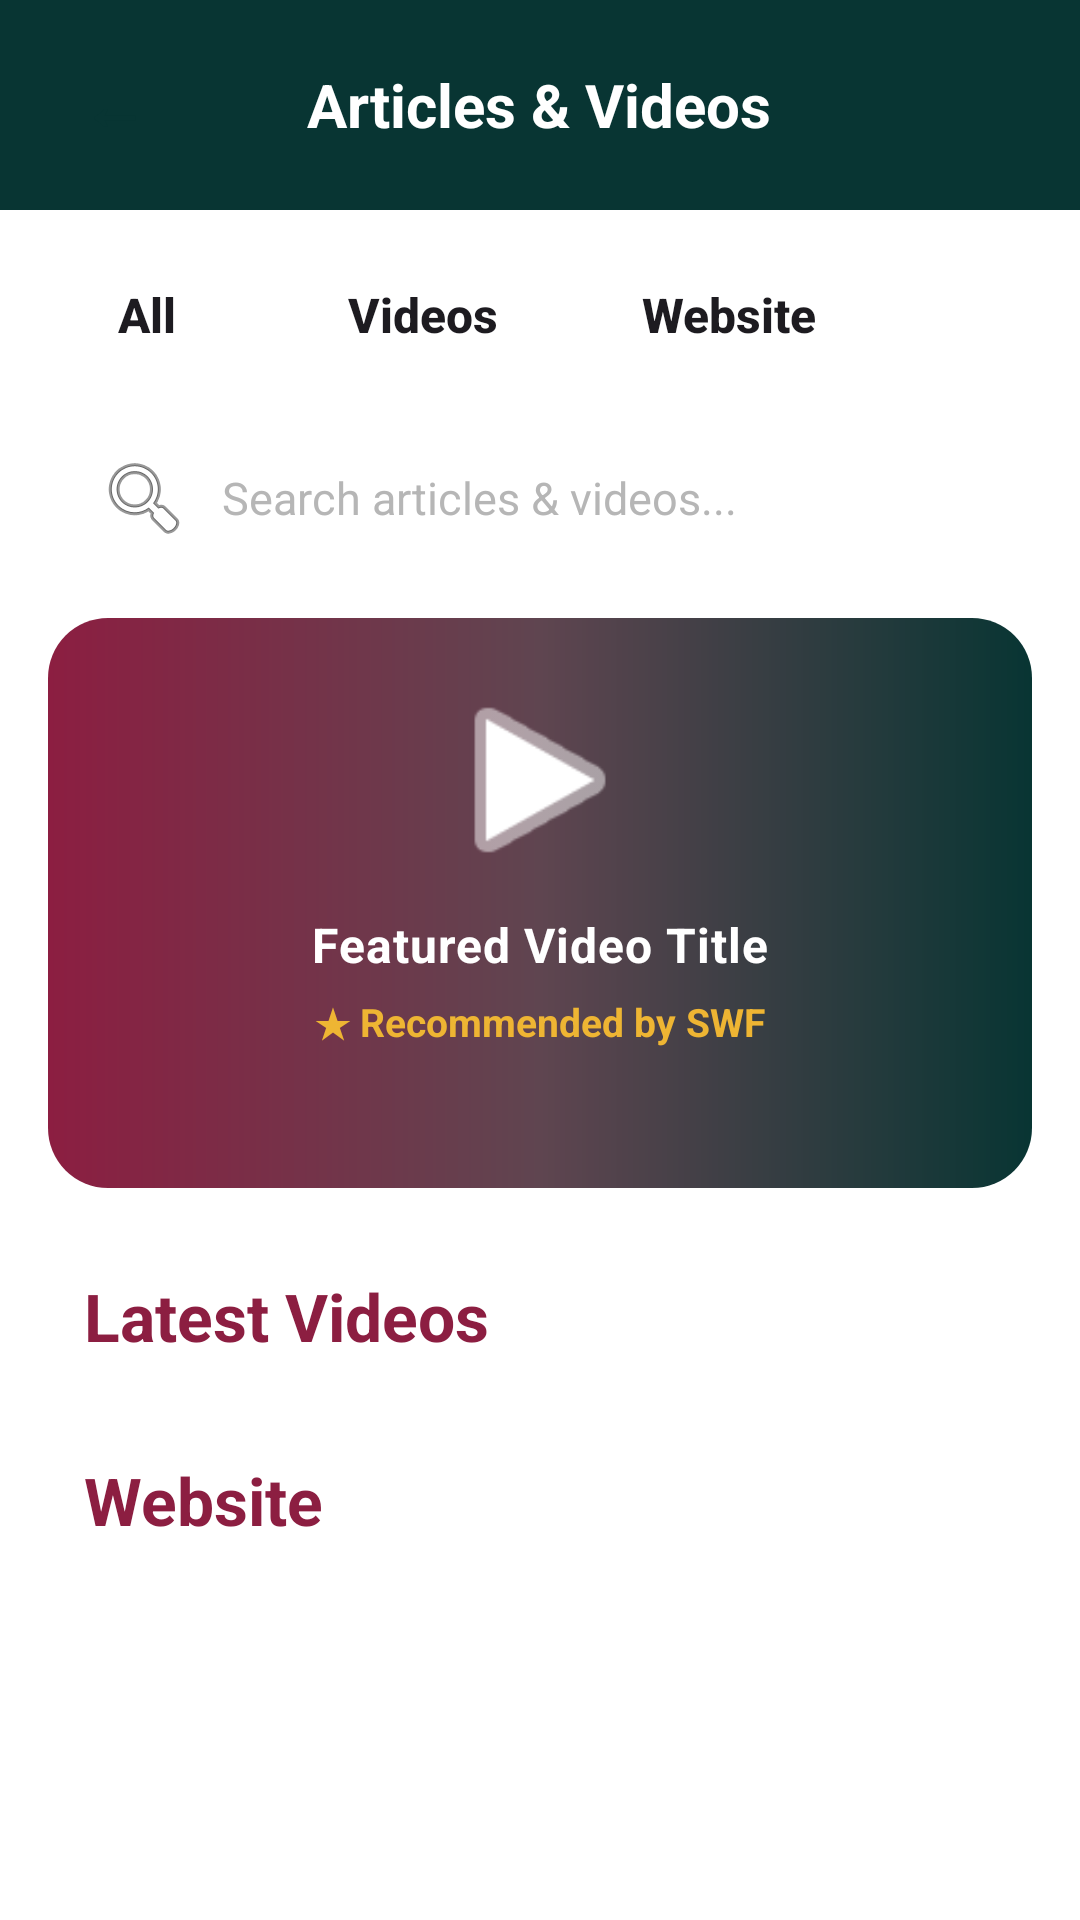

Where icons sit on this 1080×1920 app screen, as BBox(x1, y1, x2, y2):
OPEN VIDEO: BBox(432, 672, 606, 888)
